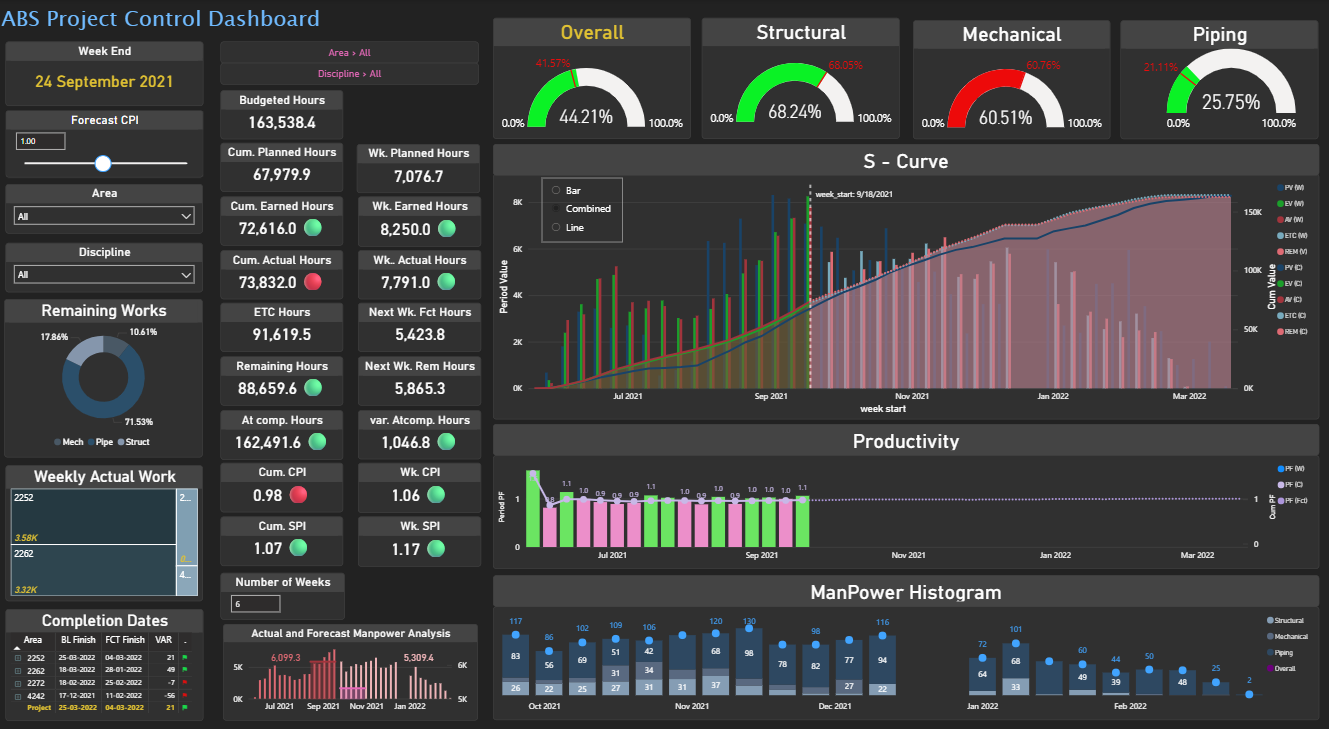

What the dashboard file says about the page in this screenshot:
{"tool":"powerbi","page":{"name":"Dashborad","canvas":[2000,1100],"ordinal":0},"visuals":[{"type":"textbox","box":[0,0,498.4,62.9],"z":0},{"type":"card","title":"Week End","fields":{"Values":["store_measure.week_end"]},"box":[10.8,63.3,296.7,96.7],"z":1000},{"type":"slicer","title":"Area","fields":{"Values":["all_data.Area"]},"box":[11.2,278,296.3,74.1],"z":2000},{"type":"slicer","title":"Discipline","fields":{"Values":["all_data.Discipline"]},"box":[11.2,365,296.3,74.1],"z":3000},{"type":"lineClusteredColumnComboChart","fields":{"Category":["all_data.week_start"],"Y":["store_measure.barChart_baseline","store_measure.barChart_earned_hours","store_measure.barChart_actual_hours","store_measure.barChart_estimate_hours","store_measure.barChart_remaining_hours"],"Y2":["store_measure.LineChart_baseline_hours","store_measure.LineChart_earned_hours","store_measure.LineChart_actual_hours","store_measure.LineChart_estimate(etc)_hours","store_measure.LineChart_remaining_hours"]},"box":[743.1,262.7,1239.2,368.2],"z":4000},{"type":"card","fields":{"Values":["store_measure.s_curve_title"]},"box":[743.1,217.8,1239.2,47.1],"z":5000},{"type":"gauge","title":"Overall","fields":{"Y":["store_measure.earned_%_todate"],"TargetValue":["store_measure.baseline_%_todate"]},"box":[742.9,28.6,297.1,181.4],"z":6000},{"type":"gauge","title":"Structural","fields":{"Y":["store_measure.earned_%_todate"],"TargetValue":["store_measure.baseline_%_todate"]},"box":[1055.7,28.6,297.1,181.4],"z":7000},{"type":"gauge","title":"Mechanical","fields":{"Y":["store_measure.earned_%_todate"],"TargetValue":["store_measure.baseline_%_todate"]},"box":[1372.9,31.4,295.7,178.6],"z":8000},{"type":"gauge","title":"Piping","fields":{"Y":["store_measure.earned_%_todate"],"TargetValue":["store_measure.baseline_%_todate"]},"box":[1684.3,31.4,297.1,178.6],"z":9000},{"type":"lineClusteredColumnComboChart","fields":{"Y":["store_measure.period_pf"],"Category":["all_data.week_start"],"Y2":["store_measure.cum_pf","store_measure.cum_pf_forcast"]},"box":[743.1,684.7,1239.2,170.6],"z":10000},{"type":"card","fields":{"Values":["store_measure.pf_chart_title"]},"box":[743.1,637.6,1239.2,47.1],"z":11000},{"type":"lineStackedColumnComboChart","fields":{"Category":["all_data.week_start"],"Y":["store_measure.manpower_forecast_strt","store_measure.manpower_forecast_mec","store_measure.manpower_forecast_pipe"],"Y2":["store_measure.man_power_forecast"]},"box":[743.1,911.4,1239.2,170.6],"z":12000},{"type":"card","fields":{"Values":["store_measure.Histogram_title"]},"box":[743.1,864.3,1239.2,47.1],"z":13000},{"type":"donutChart","title":"Remaining Works","fields":{"Y":["store_measure.Remaining_hours"],"Series":["all_data.Discipline"]},"box":[10,450,297.5,237.5],"z":14000},{"type":"treemap","title":"Weekly Actual Work","fields":{"Values":["store_measure.weekly_actual_hours"],"Group":["all_data.Area"]},"box":[11.2,700,296.3,204.3],"z":15000},{"type":"pivotTable","title":"Completion Dates","fields":{"Rows":["all_data.Area","all_data.Discipline"],"Values":["store_measure.baseline_finish_dates","store_measure.forecast_finish_dates","store_measure.date_variance","store_measure.ind_flag"]},"box":[11,914,297,168],"z":16000},{"type":"card","title":"Budgeted Hours","fields":{"Values":["store_measure.baseline_hours"]},"box":[334.5,136.4,183.6,73.6],"z":17000},{"type":"card","title":"Cum. Planned Hours","fields":{"Values":["store_measure.baseline_hours_todate"]},"box":[334.1,216,183.6,73.6],"z":18000},{"type":"card","title":"Cum. Earned Hours","fields":{"Values":["store_measure.lbl_cum_earned_hours"]},"box":[334.1,296,183.6,73.6],"z":19000},{"type":"card","title":"Cum. Actual Hours","fields":{"Values":["store_measure.lbl_cum_actual_hours"]},"box":[334.1,376,183.6,73.6],"z":20000},{"type":"card","title":"ETC Hours","fields":{"Values":["store_measure.Estimate_tocomplte_hours"]},"box":[334.1,456,183.6,73.6],"z":21000},{"type":"card","title":"Remaining Hours","fields":{"Values":["store_measure.lbl_remaining_hours"]},"box":[334.1,536,183.6,73.6],"z":22000},{"type":"card","title":"At comp. Hours","fields":{"Values":["store_measure.lbl_atcomp_hours"]},"box":[334.5,616,184.1,74.1],"z":23000},{"type":"card","title":"Cum. CPI","fields":{"Values":["store_measure.lbl_cum_cpi_hours"]},"box":[334.5,696,184.1,74.1],"z":24000},{"type":"card","title":"Cum. SPI","fields":{"Values":["store_measure.lbl_cum_spi_hours"]},"box":[334.5,776,184.1,74.1],"z":25000},{"type":"card","title":"Wk. Planned Hours","fields":{"Values":["store_measure.weekly_baseline_hours"]},"box":[538.8,217.5,185,73.8],"z":26000},{"type":"card","title":"Wk. Earned Hours","fields":{"Values":["store_measure.lbl_week_earned_hours"]},"box":[540,296.2,185,75],"z":27000},{"type":"card","title":"Wk.. Actual Hours","fields":{"Values":["store_measure.lbl_weekly_actual_hours"]},"box":[540,376.2,185,73.8],"z":28000},{"type":"card","title":"Next Wk. Fct Hours","fields":{"Values":["store_measure.nextweek_fct_hours"]},"box":[540,456.2,185,73.8],"z":29000},{"type":"card","title":"var. Atcomp. Hours","fields":{"Values":["store_measure.lbl_var_atcomp_hours"]},"box":[540,616.2,185,73.8],"z":30000},{"type":"card","title":"Wk. CPI","fields":{"Values":["store_measure.lbl_week_pf"]},"box":[540,696.2,185,75],"z":31000},{"type":"card","title":"Wk. SPI","fields":{"Values":["store_measure.lbl_week_spi"]},"box":[540,776.2,185,75],"z":32000},{"type":"card","fields":{"Values":["store_measure.show_selected_area"]},"box":[334,63,387,33],"z":33000},{"type":"card","fields":{"Values":["store_measure.show_selected_disc"]},"box":[333.6,95.5,387.3,32.7],"z":34000},{"type":"slicer","fields":{"Values":["tbl_chart_type.Chart_type"]},"box":[815.7,268.6,121.4,97.1],"z":35000},{"type":"slicer","title":"Forecast CPI","fields":{"Values":["Forecast_cpi.Forecast_cpi"]},"box":[10.8,167.5,296.7,100.8],"z":36000},{"type":"card","title":"Next Wk. Rem Hours","fields":{"Values":["store_measure.nextweek_rem_hours"]},"box":[540,536.2,185,73.8],"z":37000},{"type":"slicer","title":"Number of Weeks","fields":{"Values":["Numbers_Week.Numbers_Week"]},"box":[333.8,860,186.2,70],"z":38000},{"type":"lineClusteredColumnComboChart","title":"Actual and Forecast Manpower Analysis","fields":{"Category":["all_data.week_start"],"Y":["store_measure.actual_hours","store_measure.remaining_hours"],"Y2":["store_measure.chart_dynamic_avg_actual","store_measure.chart_dynamic_avg_remain"]},"box":[337.5,937.5,382.5,145],"z":39000},{"type":"card","fields":{"Values":["store_measure.dynamic_actual_avg"]},"box":[395,972.5,71.7,24.2],"z":39001},{"type":"card","fields":{"Values":["store_measure.dynamic_remain_avg"]},"box":[596.7,972.5,69.2,24.2],"z":39002}]}

Visuals, with their boxes in screenshot pixels (x1, y1, x2, y2), scaled from the page's 2000x1100 canvas onto the 1329x729 screenshot:
textbox: l=0, t=0, r=331, b=42
"Week End" card: l=7, t=42, r=204, b=106
"Area" slicer: l=7, t=184, r=204, b=233
"Discipline" slicer: l=7, t=242, r=204, b=291
lineClusteredColumnComboChart - all_data.week_start x store_measure.barChart_baseline: l=494, t=174, r=1317, b=418
card - store_measure.s_curve_title: l=494, t=144, r=1317, b=176
"Overall" gauge: l=494, t=19, r=691, b=139
"Structural" gauge: l=702, t=19, r=899, b=139
"Mechanical" gauge: l=912, t=21, r=1109, b=139
"Piping" gauge: l=1119, t=21, r=1317, b=139
lineClusteredColumnComboChart - store_measure.period_pf x all_data.week_start: l=494, t=454, r=1317, b=567
card - store_measure.pf_chart_title: l=494, t=423, r=1317, b=454
lineStackedColumnComboChart - all_data.week_start x store_measure.manpower_forecast_strt: l=494, t=604, r=1317, b=717
card - store_measure.Histogram_title: l=494, t=573, r=1317, b=604
"Remaining Works" donutChart: l=7, t=298, r=204, b=456
"Weekly Actual Work" treemap: l=7, t=464, r=204, b=599
"Completion Dates" pivotTable: l=7, t=606, r=205, b=717
"Budgeted Hours" card: l=222, t=90, r=344, b=139
"Cum. Planned Hours" card: l=222, t=143, r=344, b=192
"Cum. Earned Hours" card: l=222, t=196, r=344, b=245
"Cum. Actual Hours" card: l=222, t=249, r=344, b=298
"ETC Hours" card: l=222, t=302, r=344, b=351
"Remaining Hours" card: l=222, t=355, r=344, b=404
"At comp. Hours" card: l=222, t=408, r=345, b=457
"Cum. CPI" card: l=222, t=461, r=345, b=510
"Cum. SPI" card: l=222, t=514, r=345, b=563
"Wk. Planned Hours" card: l=358, t=144, r=481, b=193
"Wk. Earned Hours" card: l=359, t=196, r=482, b=246
"Wk.. Actual Hours" card: l=359, t=249, r=482, b=298
"Next Wk. Fct Hours" card: l=359, t=302, r=482, b=351
"var. Atcomp. Hours" card: l=359, t=408, r=482, b=457
"Wk. CPI" card: l=359, t=461, r=482, b=511
"Wk. SPI" card: l=359, t=514, r=482, b=564
card - store_measure.show_selected_area: l=222, t=42, r=479, b=64
card - store_measure.show_selected_disc: l=222, t=63, r=479, b=85
slicer - tbl_chart_type.Chart_type: l=542, t=178, r=623, b=242
"Forecast CPI" slicer: l=7, t=111, r=204, b=178
"Next Wk. Rem Hours" card: l=359, t=355, r=482, b=404
"Number of Weeks" slicer: l=222, t=570, r=346, b=616
"Actual and Forecast Manpower Analysis" lineClusteredColumnComboChart: l=224, t=621, r=478, b=717
card - store_measure.dynamic_actual_avg: l=262, t=645, r=310, b=661
card - store_measure.dynamic_remain_avg: l=397, t=645, r=442, b=661
